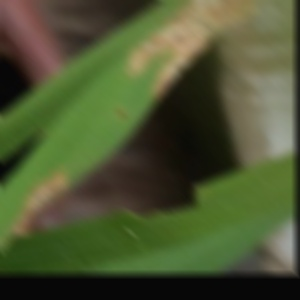Brown_Spot: (119, 0, 261, 99), (2, 154, 82, 238)
